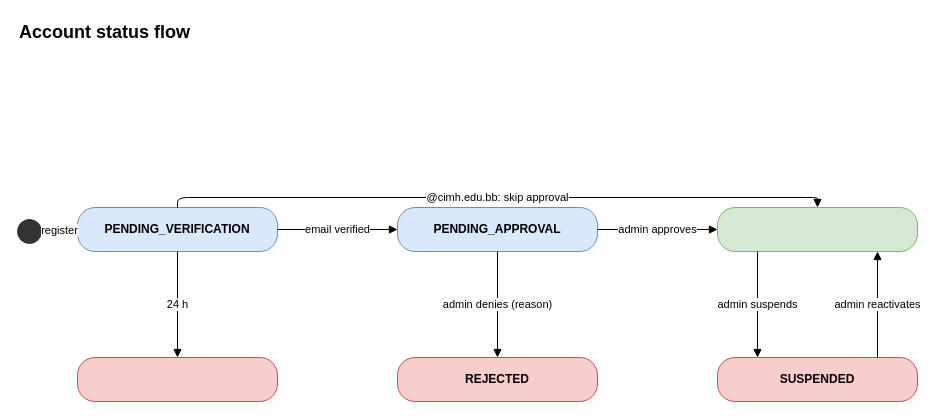
This 938x419 diagram has some shape labels left out. The box of each missing label's shape, as (x1, y1, x2, y2) in pixels:
ACTIVE: (716, 206, 918, 252)
EXPIRED: (76, 356, 278, 402)
